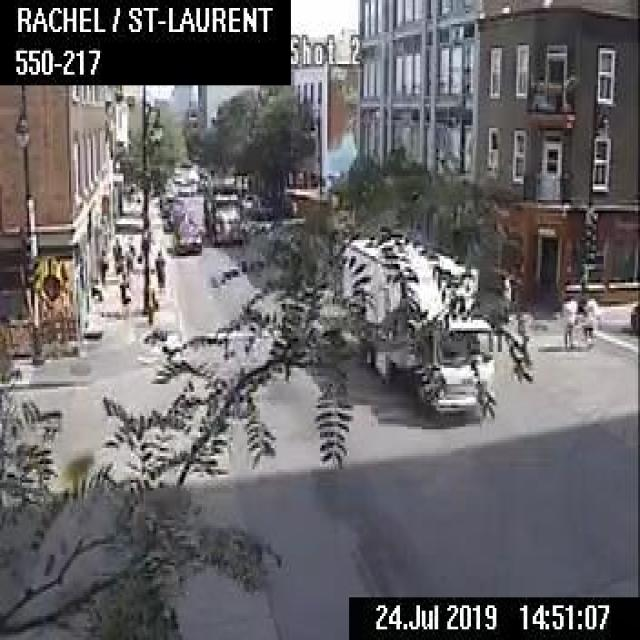pedestrian: (582, 288, 596, 347), (561, 290, 575, 348), (118, 274, 131, 324), (153, 242, 165, 292), (501, 272, 510, 322), (96, 246, 106, 286), (110, 236, 120, 276), (125, 238, 135, 278)
vehicle: (337, 233, 495, 420), (202, 172, 248, 243), (173, 216, 199, 253), (160, 200, 186, 230)
